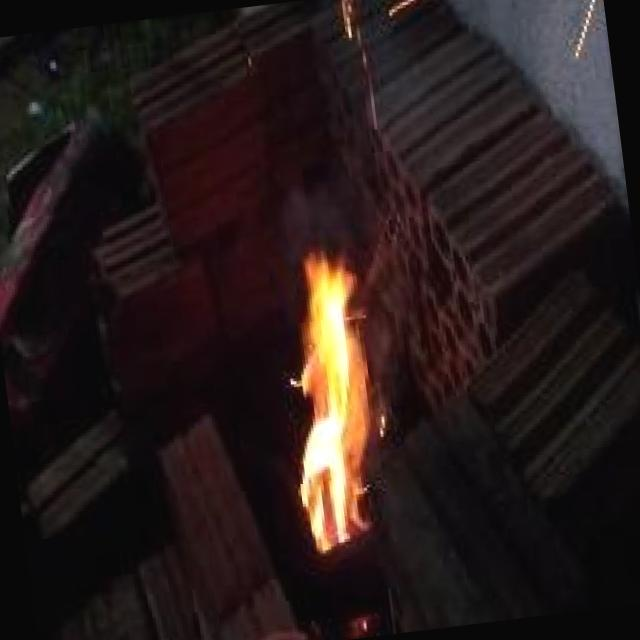fire: (243, 222, 428, 594)
